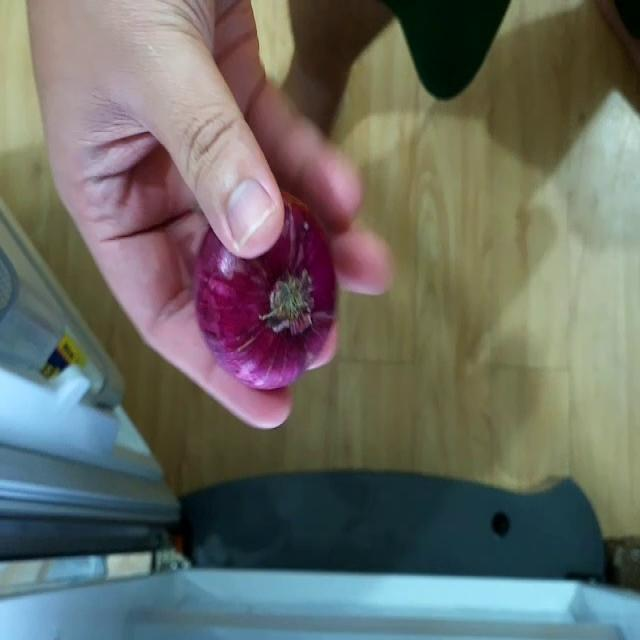onion: (192, 206, 328, 390)
